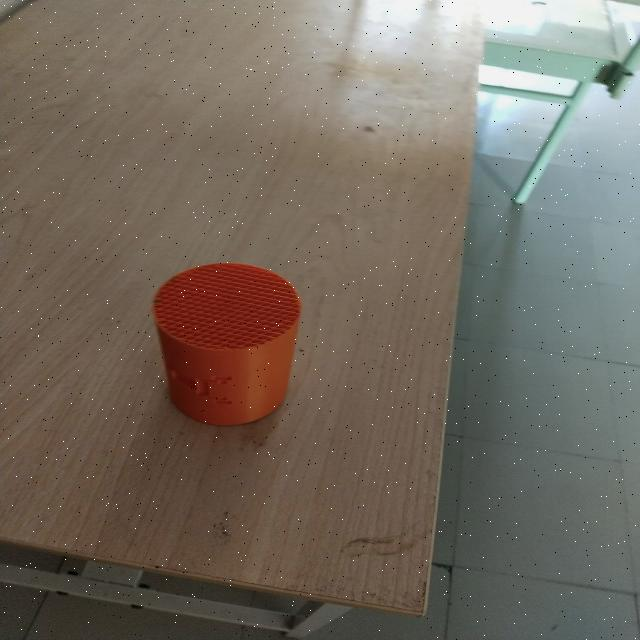Cylinder: (150, 261, 302, 426)
